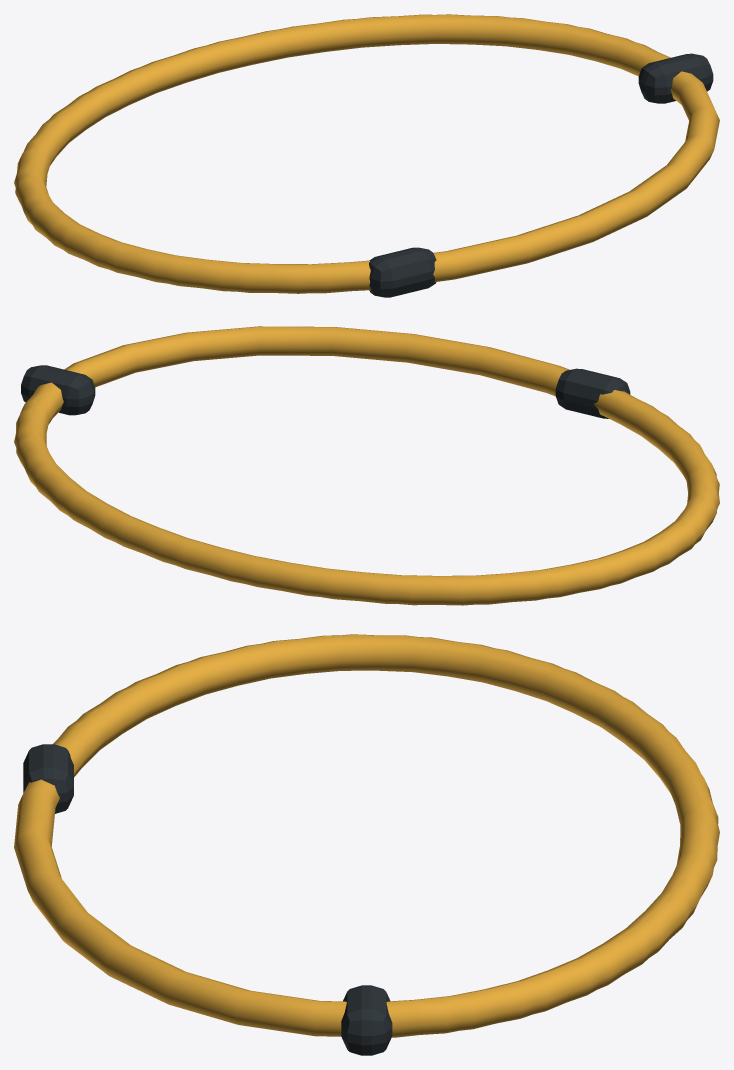
File: cable_yellow.glb
3 renders of one model, top to bottom at view 1: azimuth 30°, elevation 25°; view 2: azimuth 150°, elevation 25°; view 3: azimuth 270°, elevation 25°, orthographic. The views are drawn at different scales.
Parts seen in each view (by area): view 1: cable_yellow; view 2: cable_yellow; view 3: cable_yellow.
Boxes of the visible parts, x1=… form: cable_yellow: x1=14, y1=14, x2=719, y2=297; cable_yellow: x1=14, y1=326, x2=719, y2=605; cable_yellow: x1=14, y1=634, x2=719, y2=1055.
Size of the model in its own units: 0.6452 by 0.035 by 0.4855.
